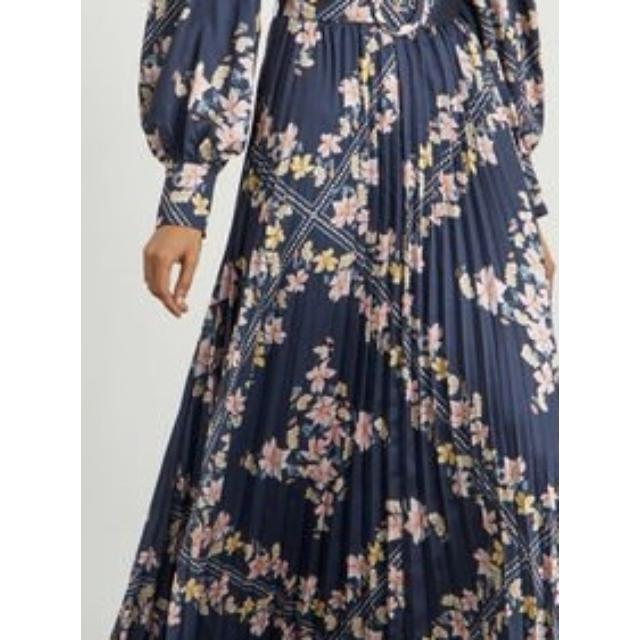polyester: (124, 0, 558, 640)
